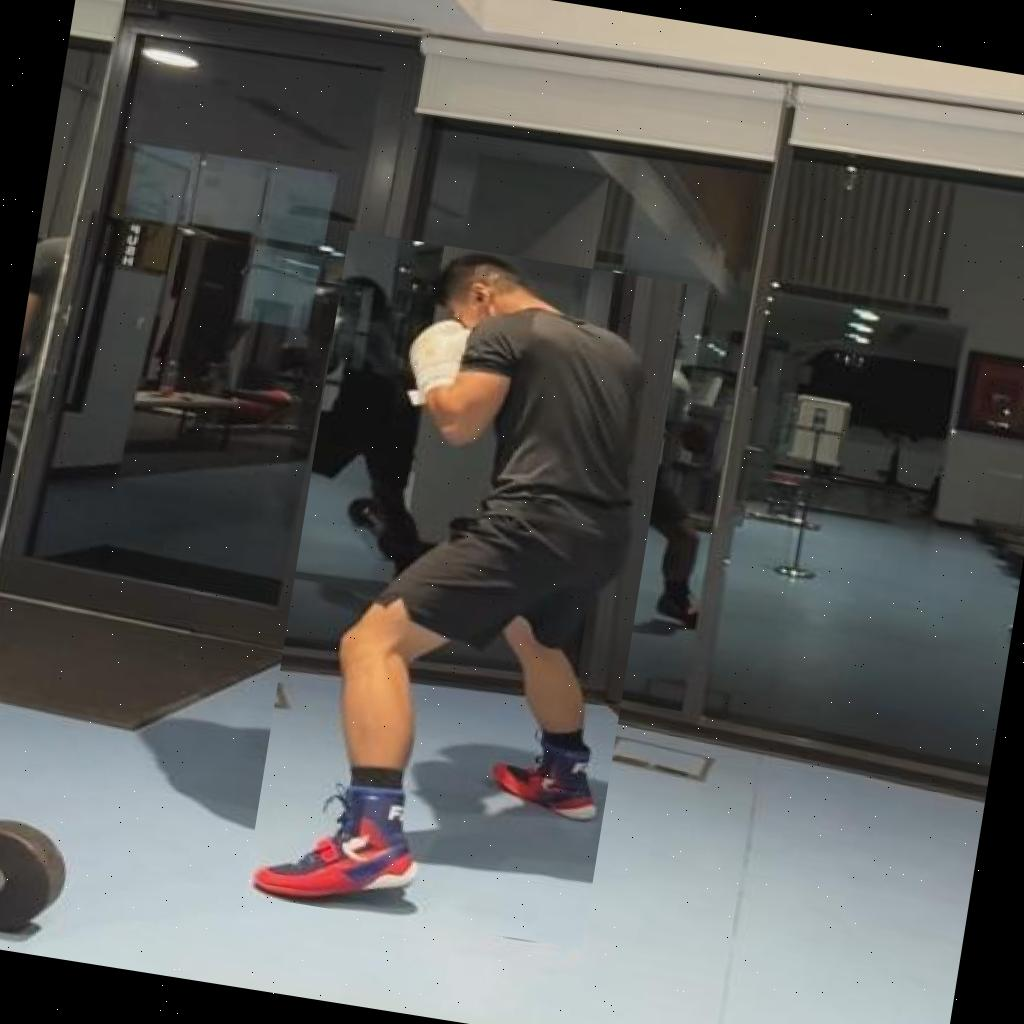no punch: (244, 230, 687, 948)
